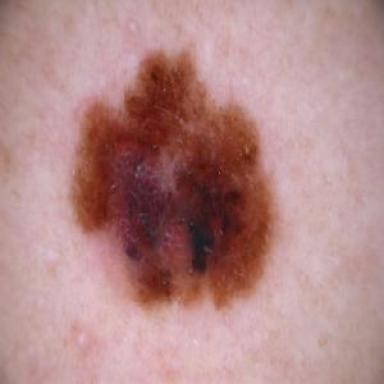Melanoma: (71, 52, 271, 307)
